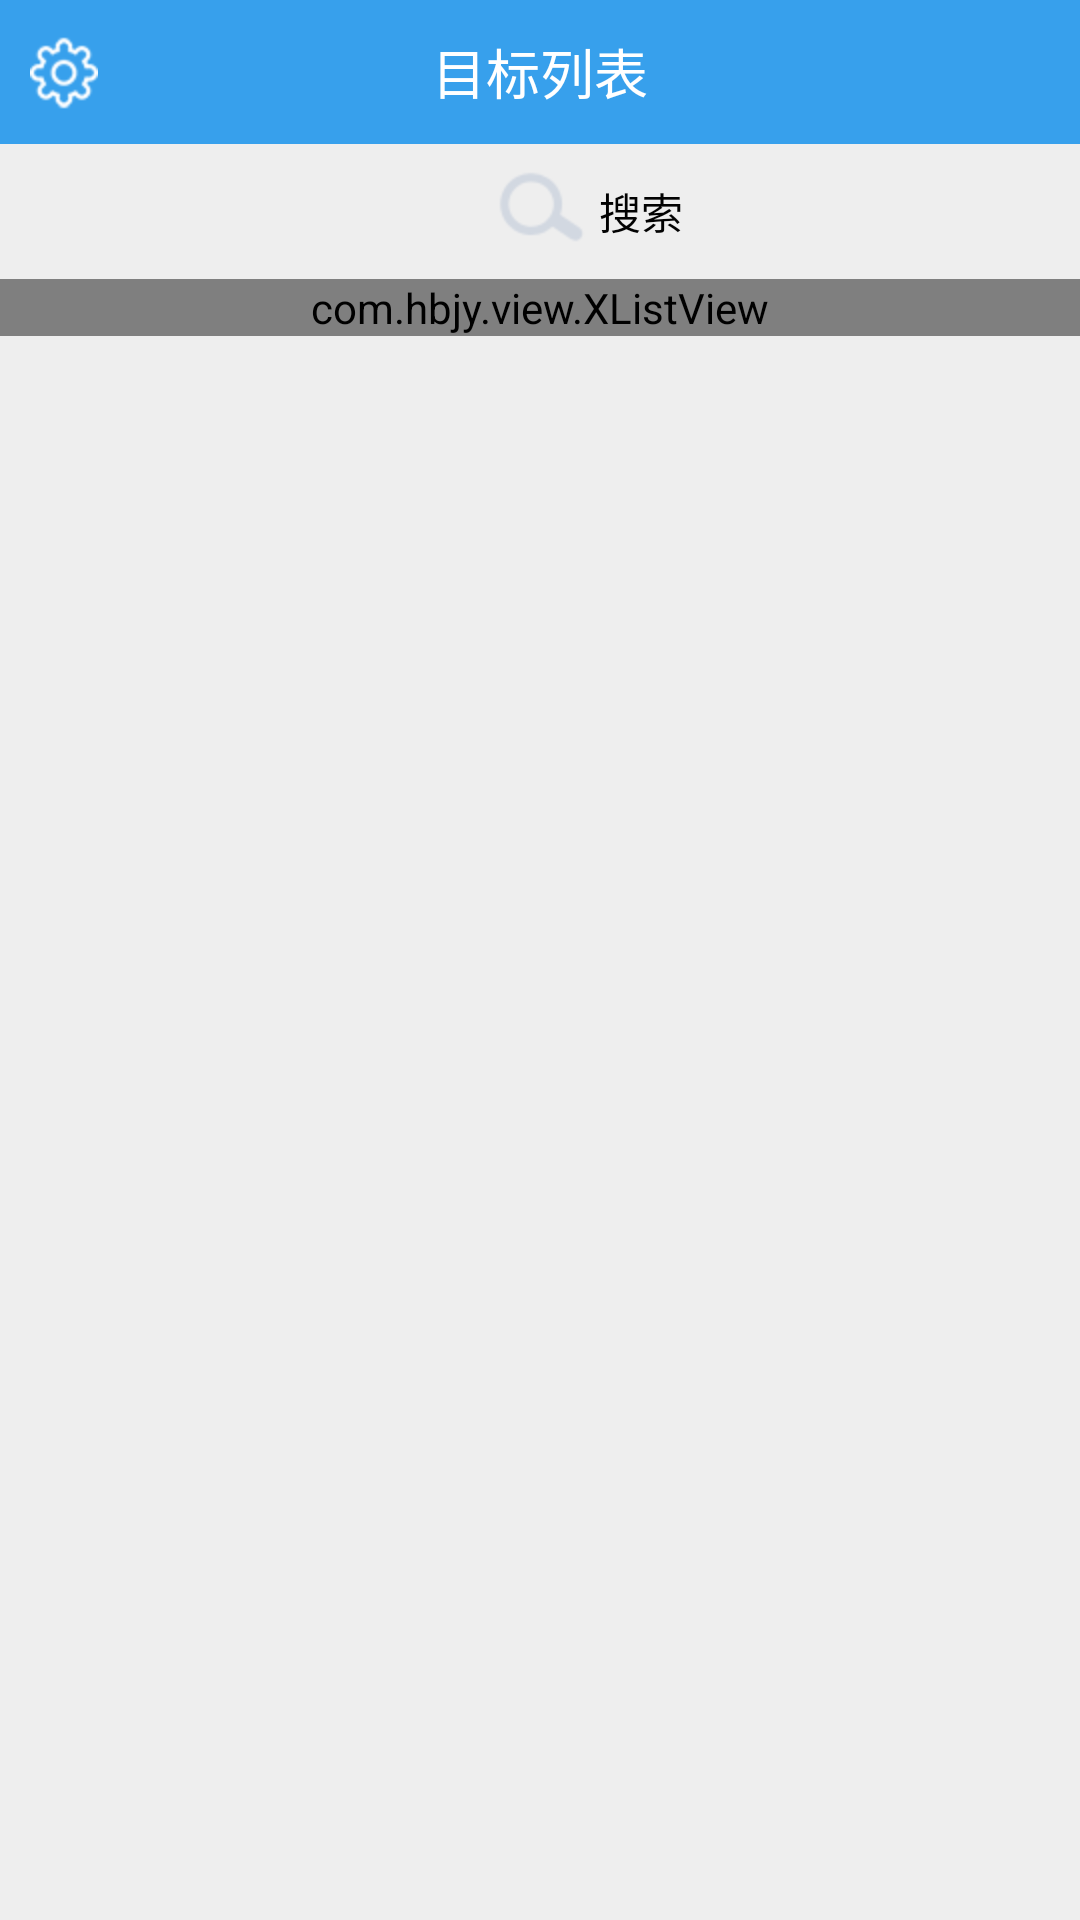

Named icons in this screenshot (1080*1920) and their centers, point (x, y):
home settings: point (64, 73)
